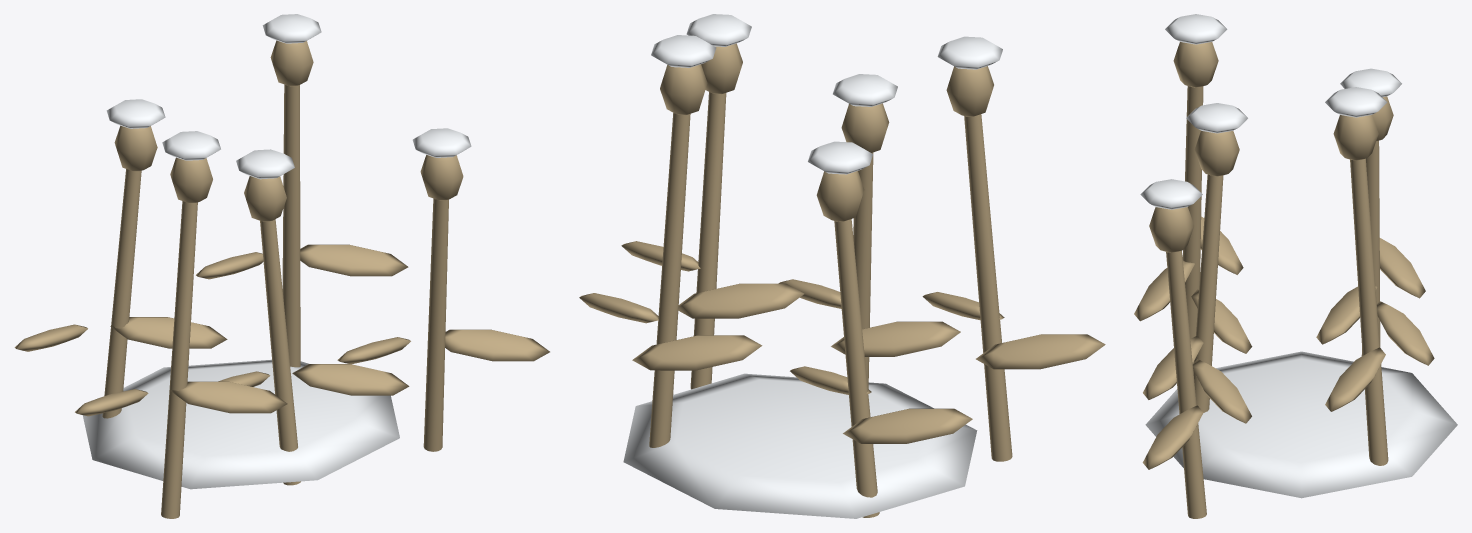
The model's file is flower_3_winter.glb.
3 renders of one model, left to right at view 1: azimuth 30°, elevation 25°; view 2: azimuth 150°, elevation 25°; view 3: azimuth 270°, elevation 25°, orthographic. The views are drawn at different scales.
Size of the model in its own units: 0.6121 by 0.4969 by 0.3731.
